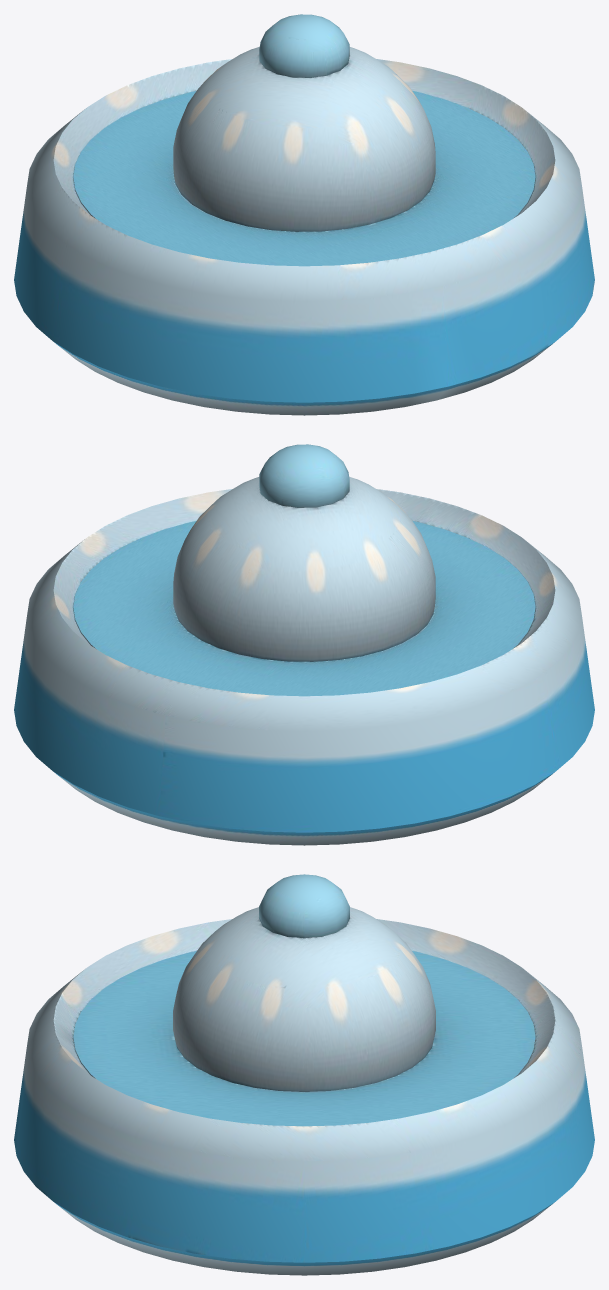
Rendered from fountain.glb.
3 views of the same model, one above another, from view 1: azimuth 30°, elevation 25°; view 2: azimuth 150°, elevation 25°; view 3: azimuth 270°, elevation 25° (orthographic).
Visible parts, largest first — view 1: fountain; view 2: fountain; view 3: fountain.
Boxes of the visible parts, x1,y1,x2,y2 form: fountain: (14,14,594,415); fountain: (14,444,594,845); fountain: (14,874,594,1275).
Size of the model in its own units: 0.44 by 0.238 by 0.44.
1 material, 1 textured.
